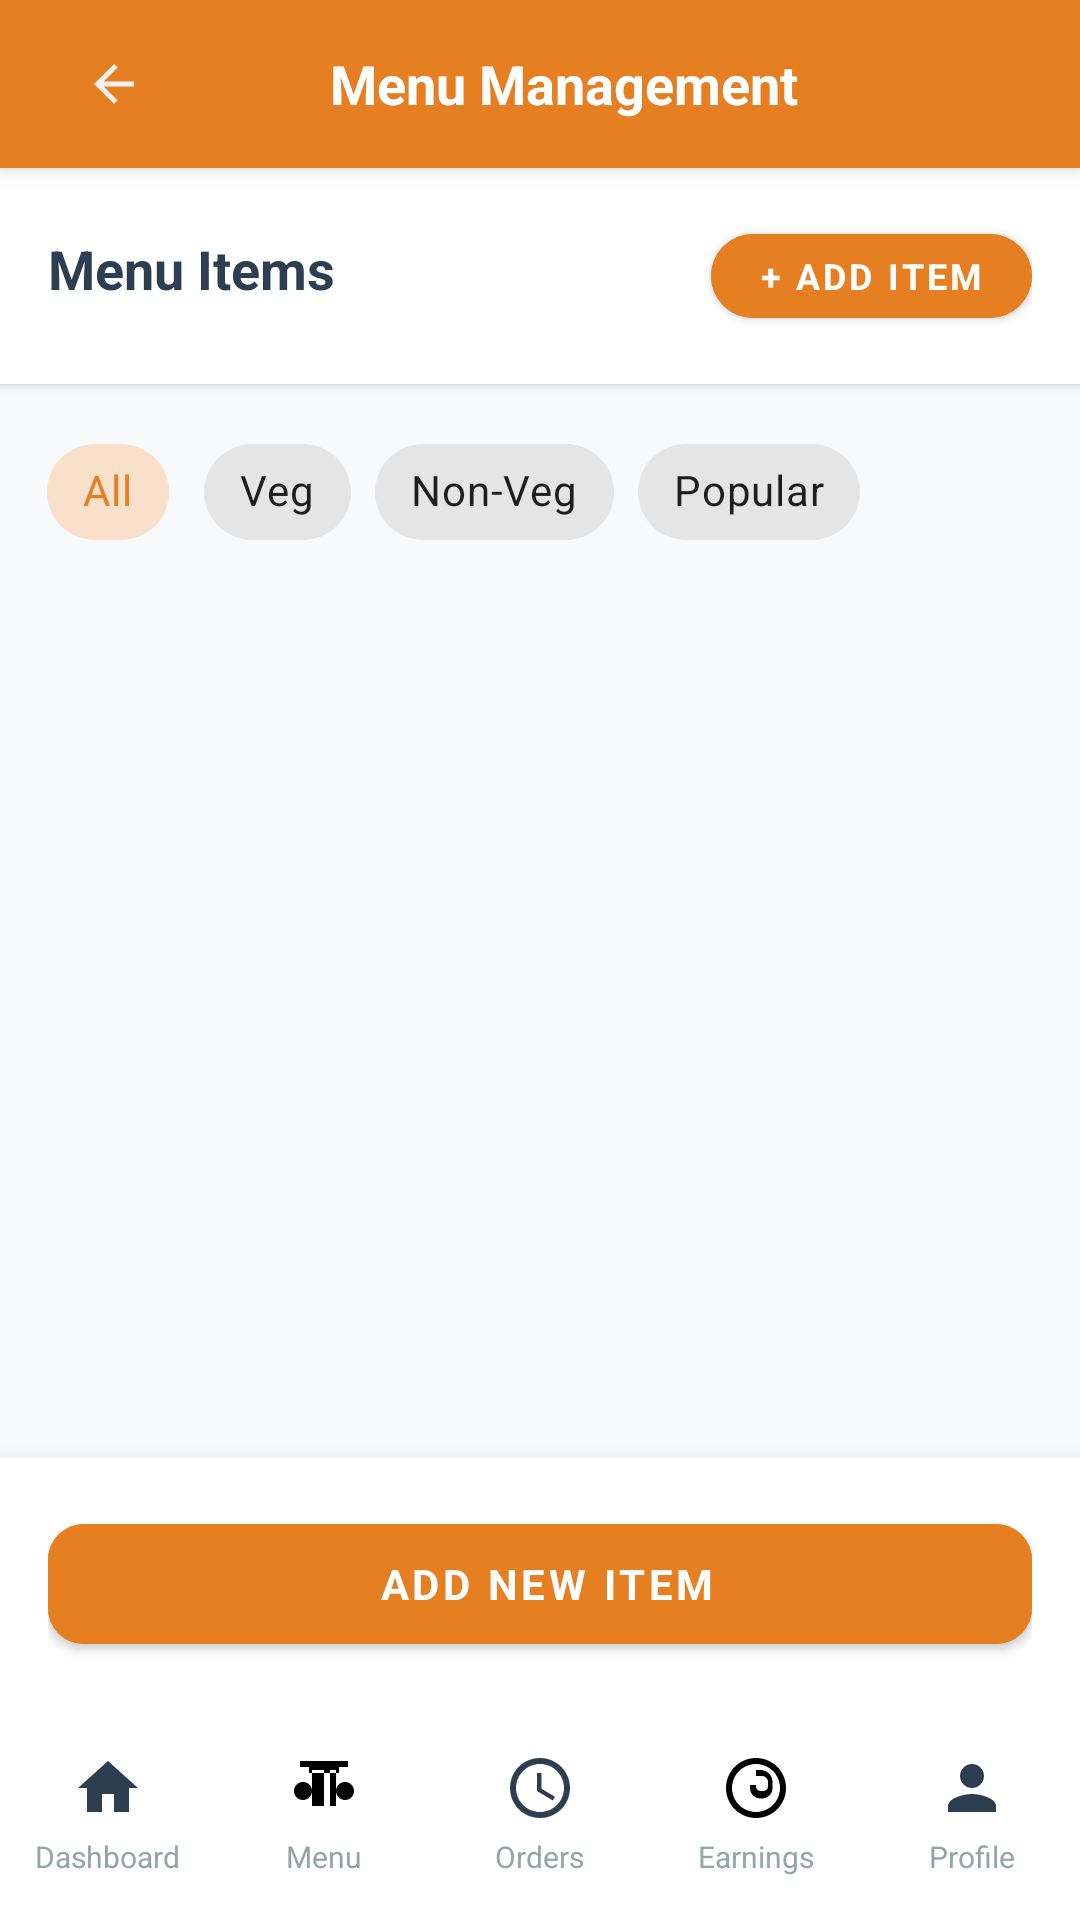

Point at icon controls on the screen. Image size 1080*1920, points as (x,y).
back: (114,84)
home: (108,1786)
